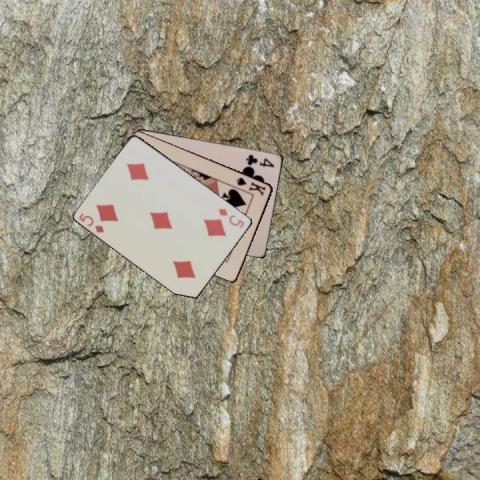4c: (243, 151, 276, 169)
5d: (215, 206, 246, 230), (76, 210, 106, 234)
Ks: (234, 174, 268, 197)
